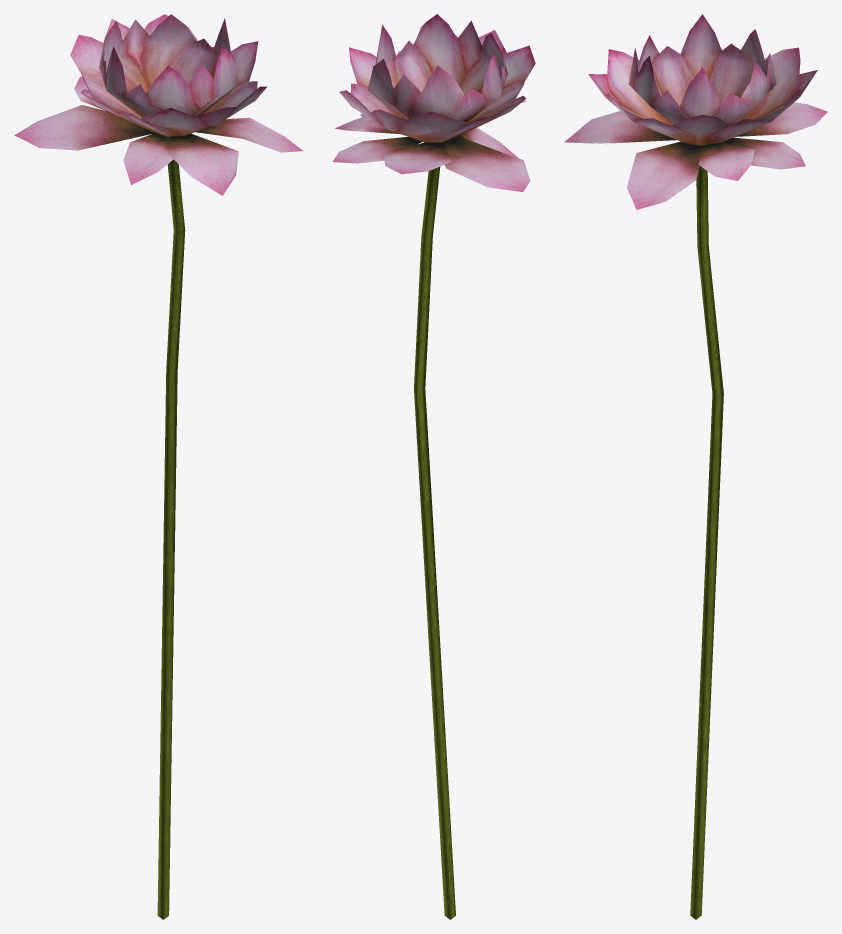
Rendered from lotusflower_04.glb.
3 views of the same model, side by side, from view 1: azimuth 30°, elevation 25°; view 2: azimuth 150°, elevation 25°; view 3: azimuth 270°, elevation 25° (orthographic).
Visible parts, largest first — view 1: lotusflower_04; view 2: lotusflower_04; view 3: lotusflower_04.
Part boxes in pixels (<box>): lotusflower_04: <box>14,14,302,919</box>; lotusflower_04: <box>332,14,535,919</box>; lotusflower_04: <box>564,14,827,919</box>.
Size of the model in its own units: 0.483 by 1.83 by 0.4979.
Materials: 1 (1 with a texture image).
